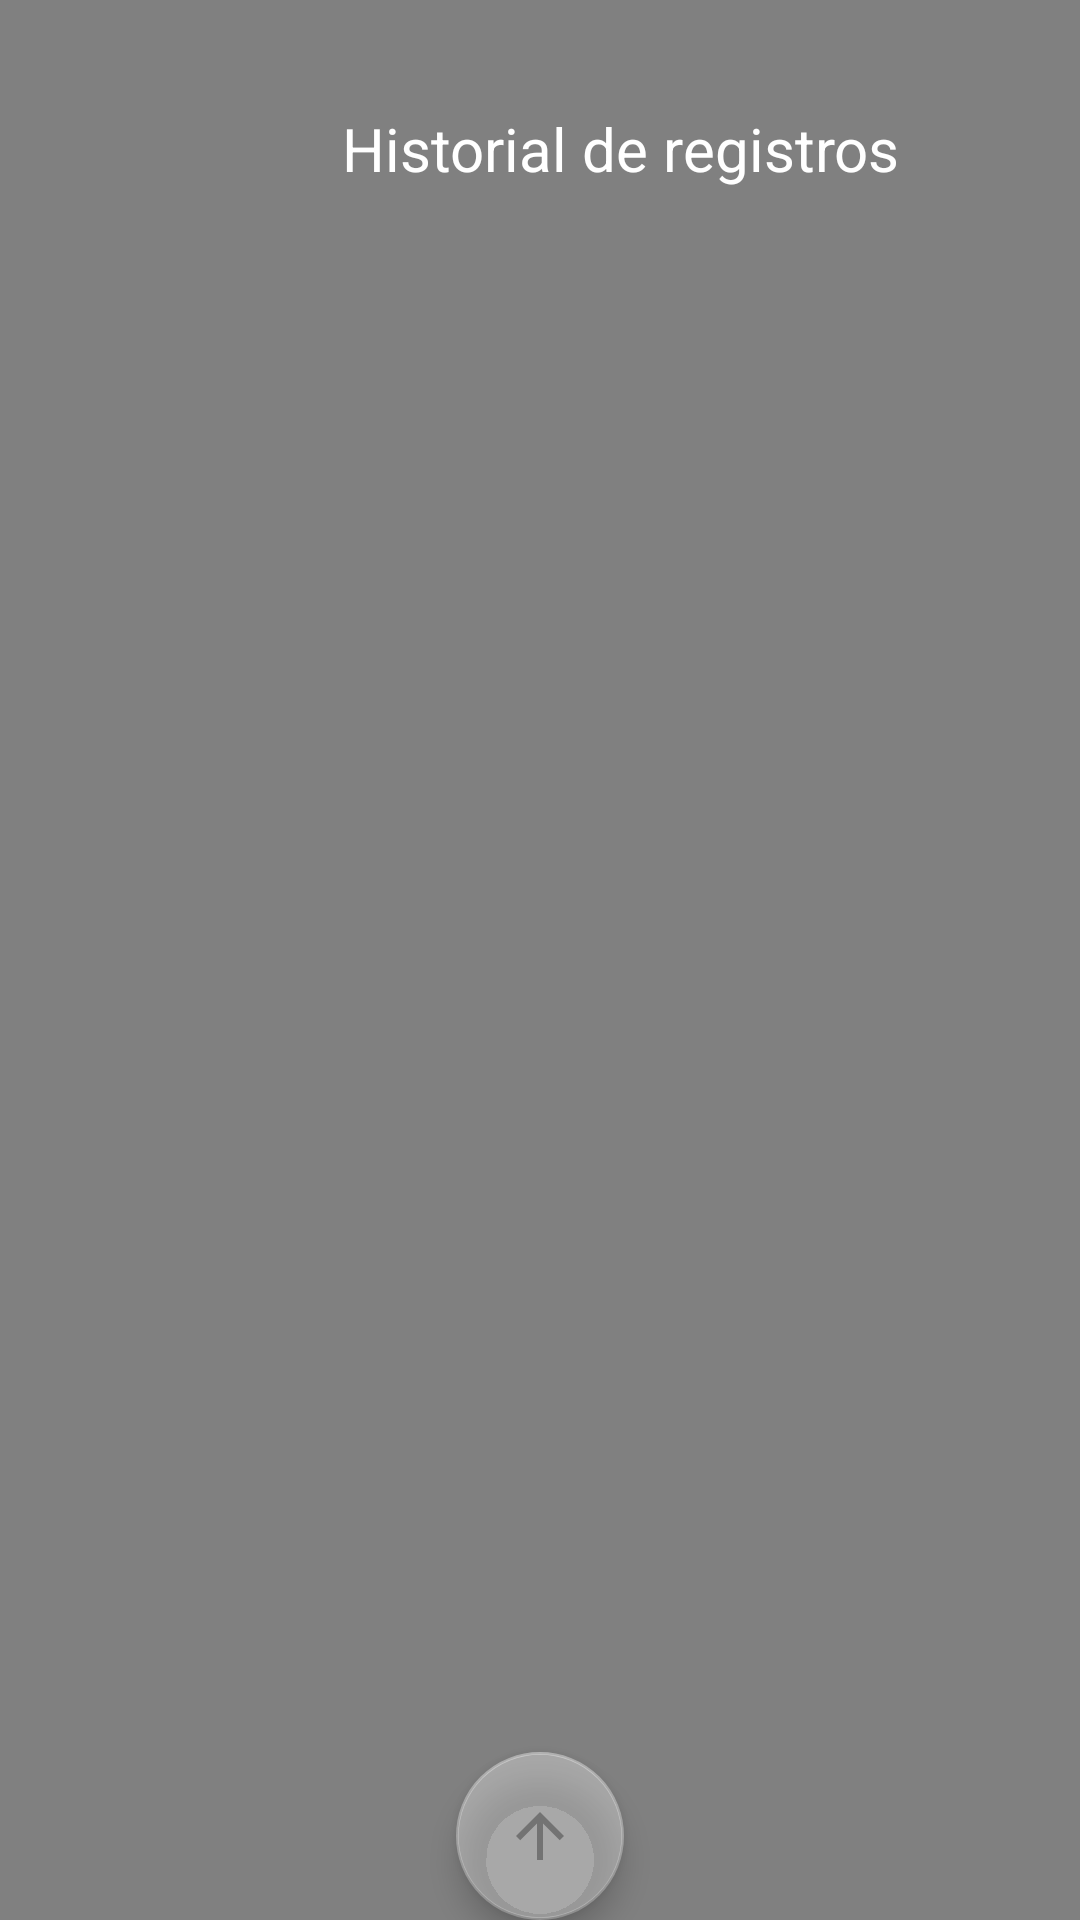

Where icons sit on this 1080 x 1920 app screen, as (x1, y1, x2, y2):
Boton flotante que te ayuda: (456, 1752, 624, 1918)
